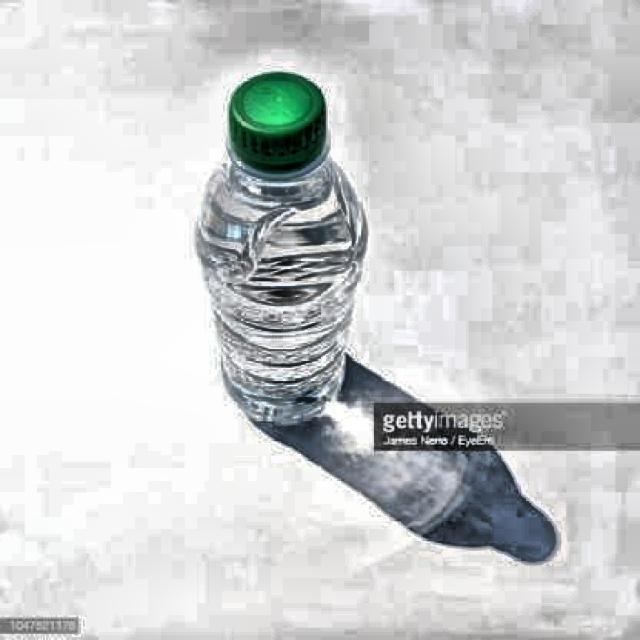Bottles: (177, 66, 371, 436)
